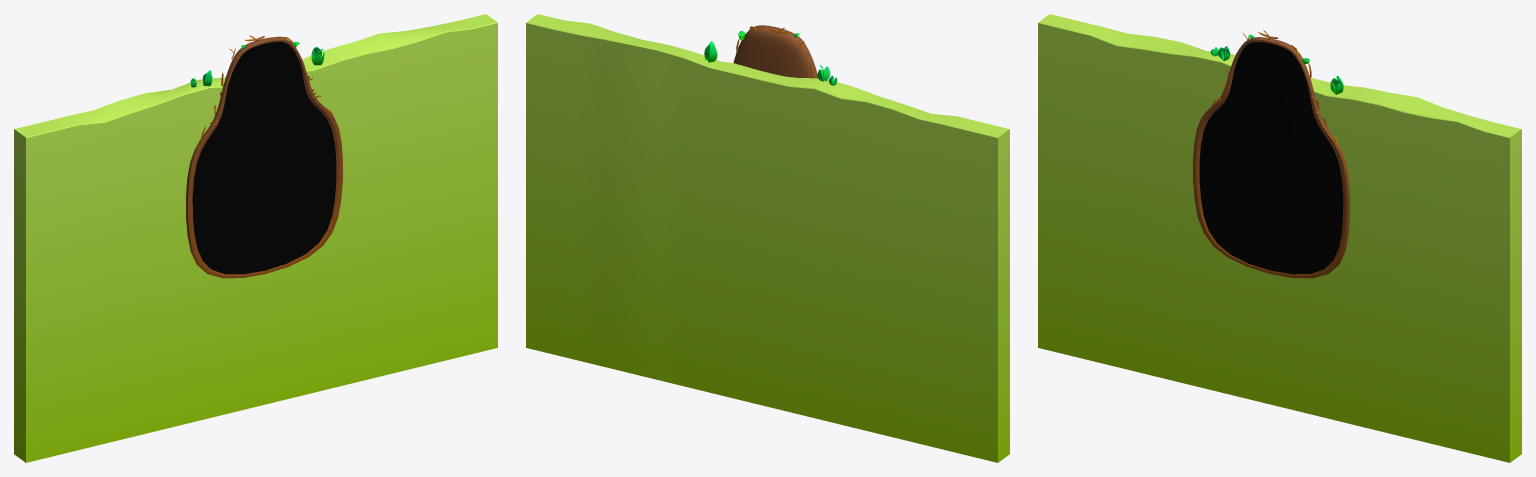
The model's file is anthill.fbx.
The picture shows the model from 3 angles, left to right: view 1: azimuth 30°, elevation 25°; view 2: azimuth 150°, elevation 25°; view 3: azimuth 330°, elevation 25°; orthographic projection.
Parts seen in each view (by area): view 1: Cube; view 2: Cube; view 3: Cube.
Part boxes in pixels (x1,y1,x2,y2): Cube: (14,14,497,462); Cube: (526,14,1009,462); Cube: (1038,14,1521,462).
Bounding box in the file's own units: 118 × 89.3 × 8.12.
1 material, 1 textured.
